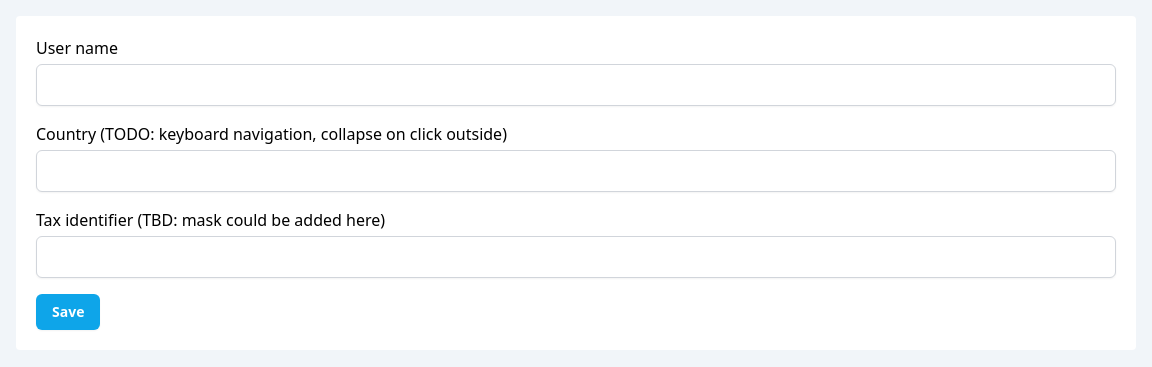
it: Save user form › has validation.
The width and height of the screenshot is (1152, 367).
Click the button with test id "save-btn". click: coordinates (68, 312)
box: x1=36 y1=294 x2=100 y2=330
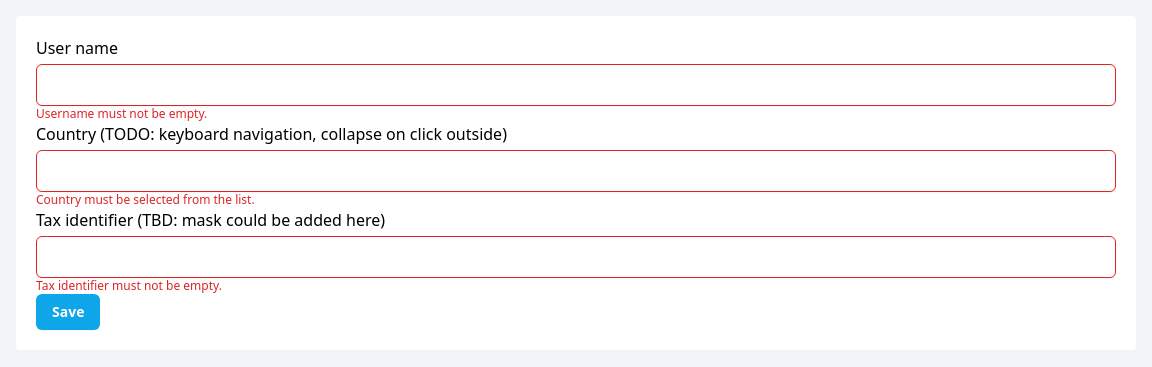
Now the text "Username must not be empty." is shown, box x1=36 y1=37 x2=1116 y2=122
Now the text "Country must be selected from the list." is shown, box x1=36 y1=150 x2=1116 y2=208
Now the text "Tax identifier must not be empty." is shown, box x1=36 y1=209 x2=1116 y2=294
